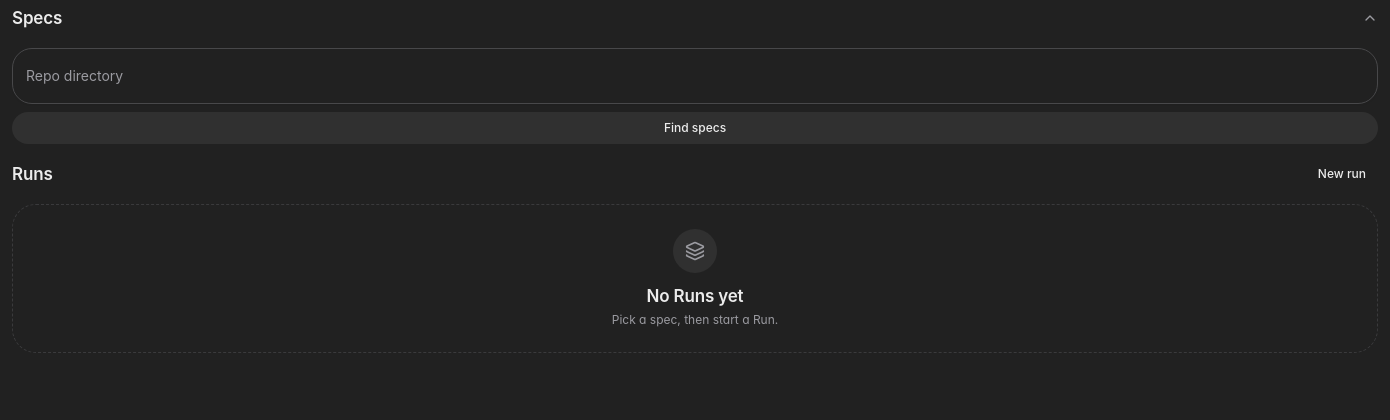
Test: RunsSidebar spec discovery › asks for a repo directory when blank
The image size is (1390, 420).
Click the button "Find specs".
click(695, 128)  # box [12,112,1378,144]
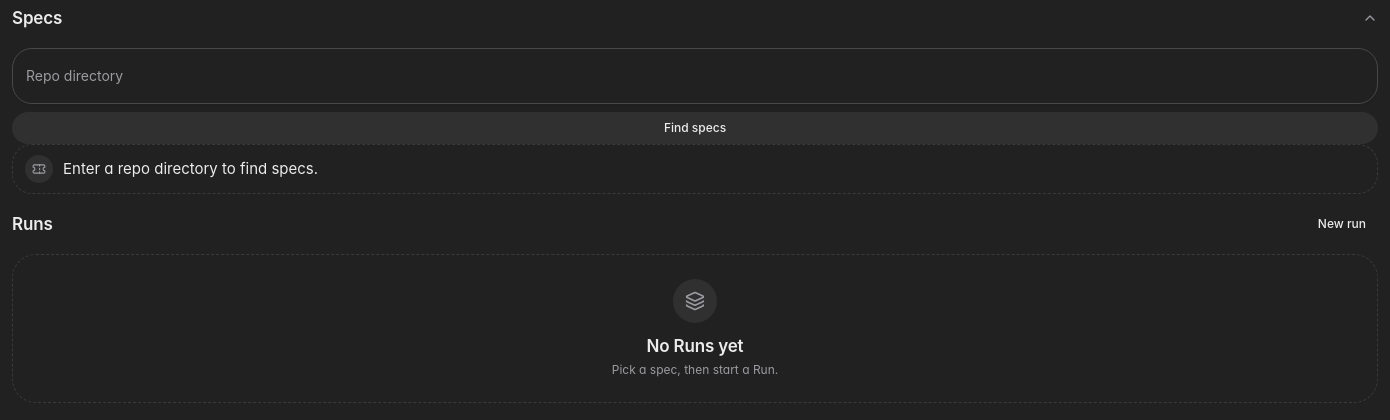
Check: the text "Enter a repo directory to find specs." is shown, box [63,159,318,178]
